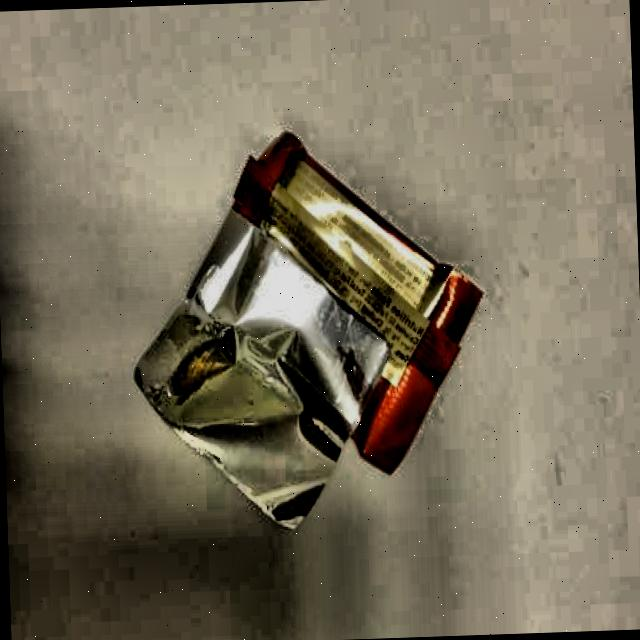trash: (118, 120, 496, 532)
